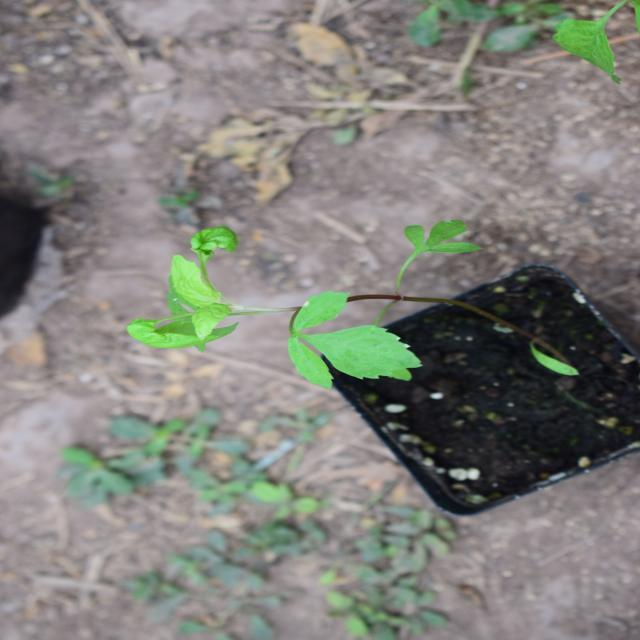Bidens pilosa: (251, 118, 453, 470)
